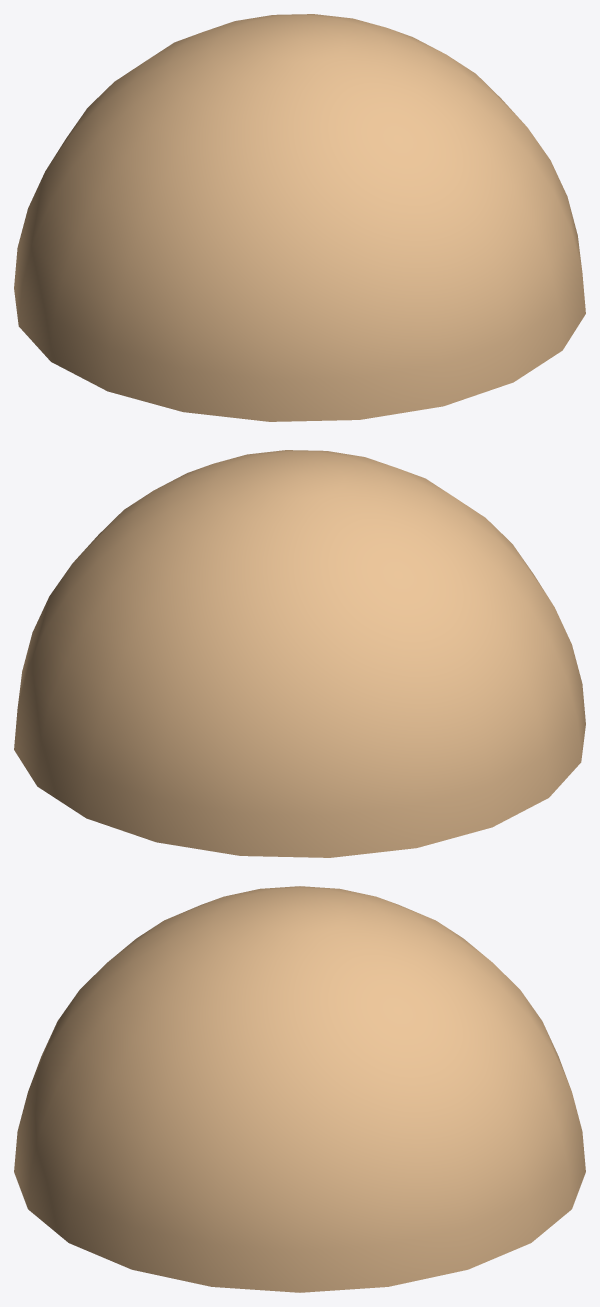
Rendered from Mesh_dome.gltf.
The picture shows the model from 3 angles, top to bottom: view 1: azimuth 30°, elevation 25°; view 2: azimuth 150°, elevation 25°; view 3: azimuth 270°, elevation 25°; orthographic projection.
Parts seen in each view (by area): view 1: Mesh_bubblesphere:PIV; view 2: Mesh_bubblesphere:PIV; view 3: Mesh_bubblesphere:PIV.
Part boxes in pixels (box(x1,y1,x2,y2)): Mesh_bubblesphere:PIV: box(14, 14, 585, 421); Mesh_bubblesphere:PIV: box(14, 450, 585, 857); Mesh_bubblesphere:PIV: box(14, 886, 585, 1292).
Size of the model in its own units: 2 by 1 by 2.
